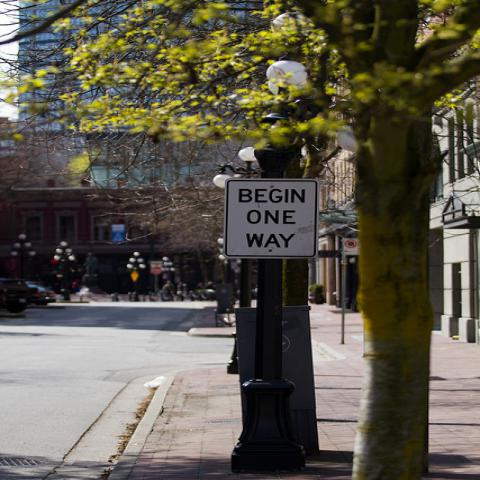car: (2, 278, 58, 314), (235, 288, 258, 299), (198, 289, 216, 301)
